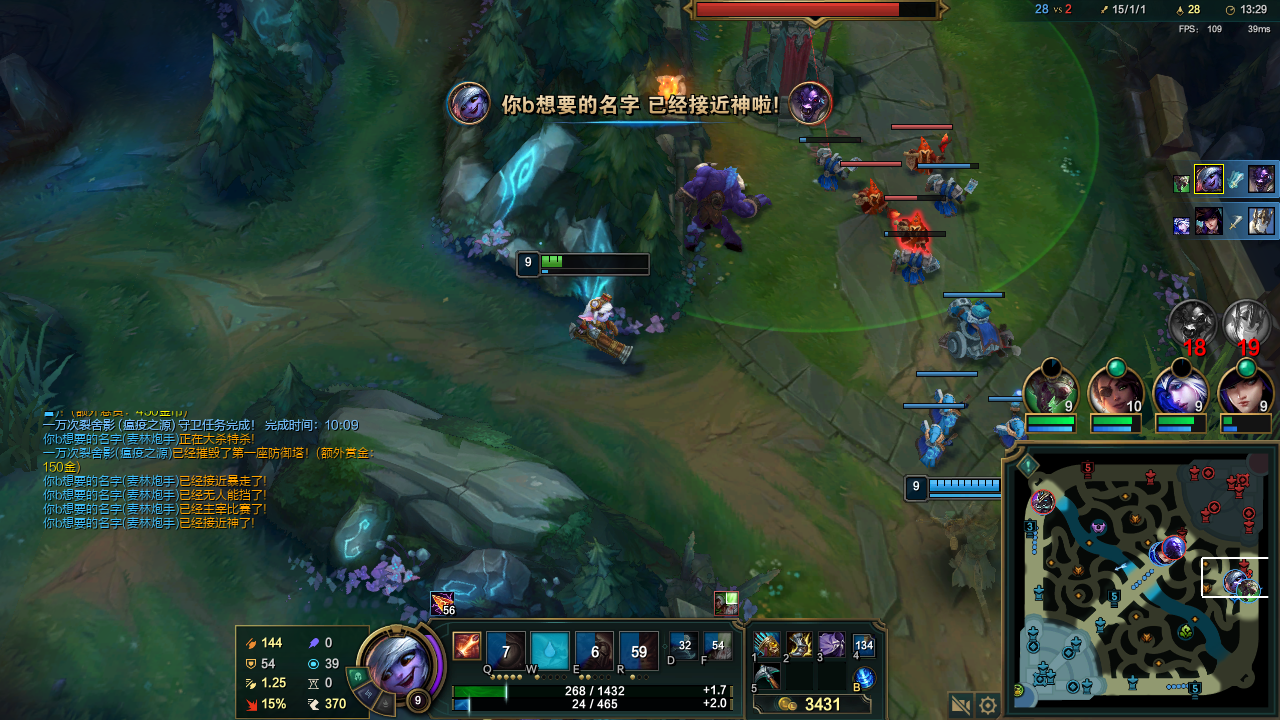DFFYT: (736, 8, 837, 89)
DFXB: (889, 210, 933, 253), (906, 135, 956, 172), (850, 179, 888, 217)
WFXB: (939, 300, 1003, 359), (921, 171, 982, 222), (808, 147, 860, 197), (890, 243, 943, 290), (985, 388, 1022, 445), (913, 420, 956, 465), (927, 389, 961, 418)
